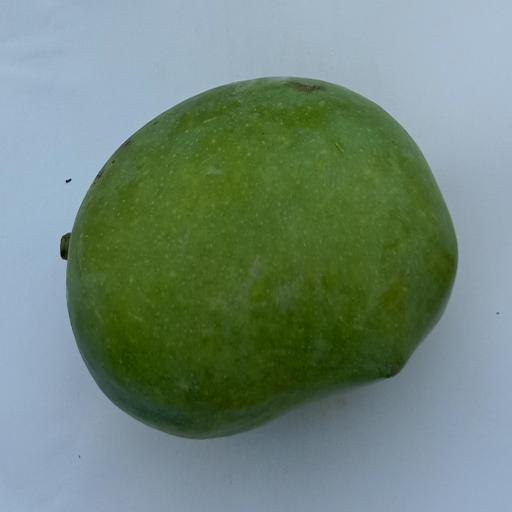mango-unripe: (31, 47, 499, 458)
